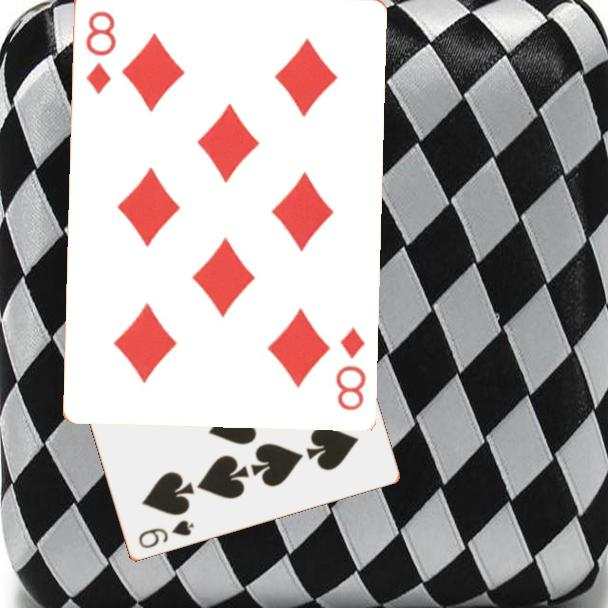d08: (82, 7, 119, 97), (332, 323, 369, 413)
s09: (135, 517, 197, 552)
